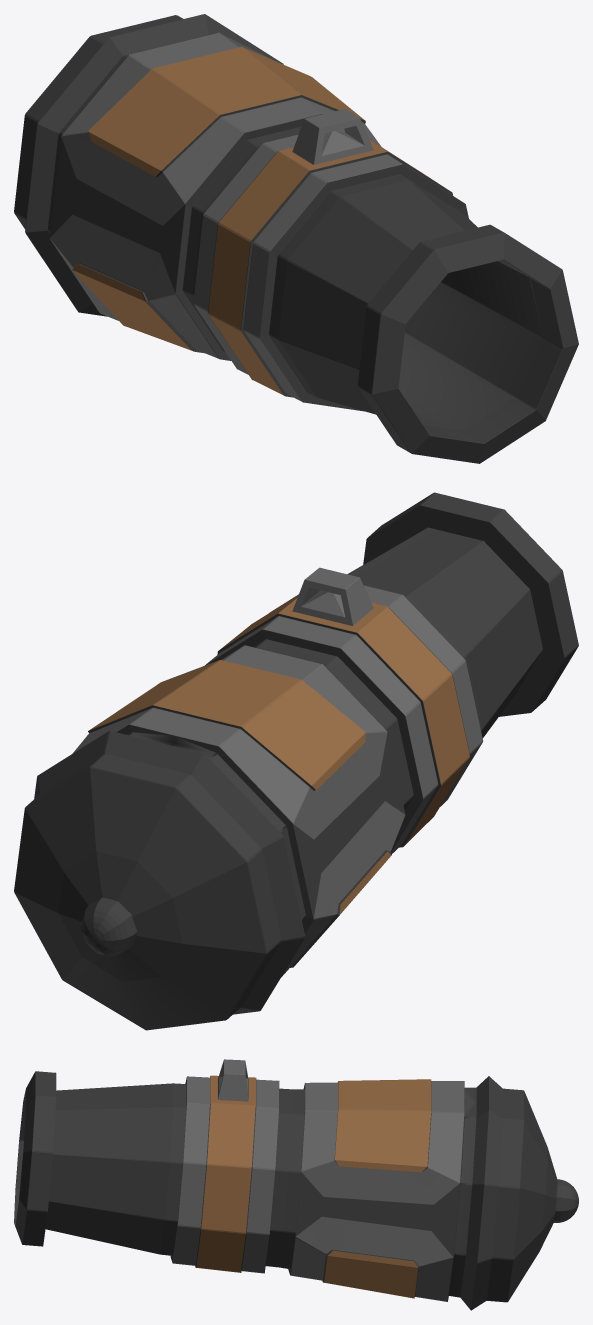
File: cannon.glb
3 views of the same model, one above another, from view 1: azimuth 30°, elevation 25°; view 2: azimuth 150°, elevation 25°; view 3: azimuth 270°, elevation 25° (orthographic). The views are drawn at different scales.
Parts seen in each view (by area): view 1: cannon; view 2: cannon; view 3: cannon.
Part boxes in pixels (left/top/right/bottom): cannon: left=14, top=14, right=578, bottom=463; cannon: left=14, top=492, right=578, bottom=1030; cannon: left=14, top=1059, right=578, bottom=1310.
Size of the model in its own units: 0.718 by 0.7992 by 1.73.
1 material, 1 textured.
